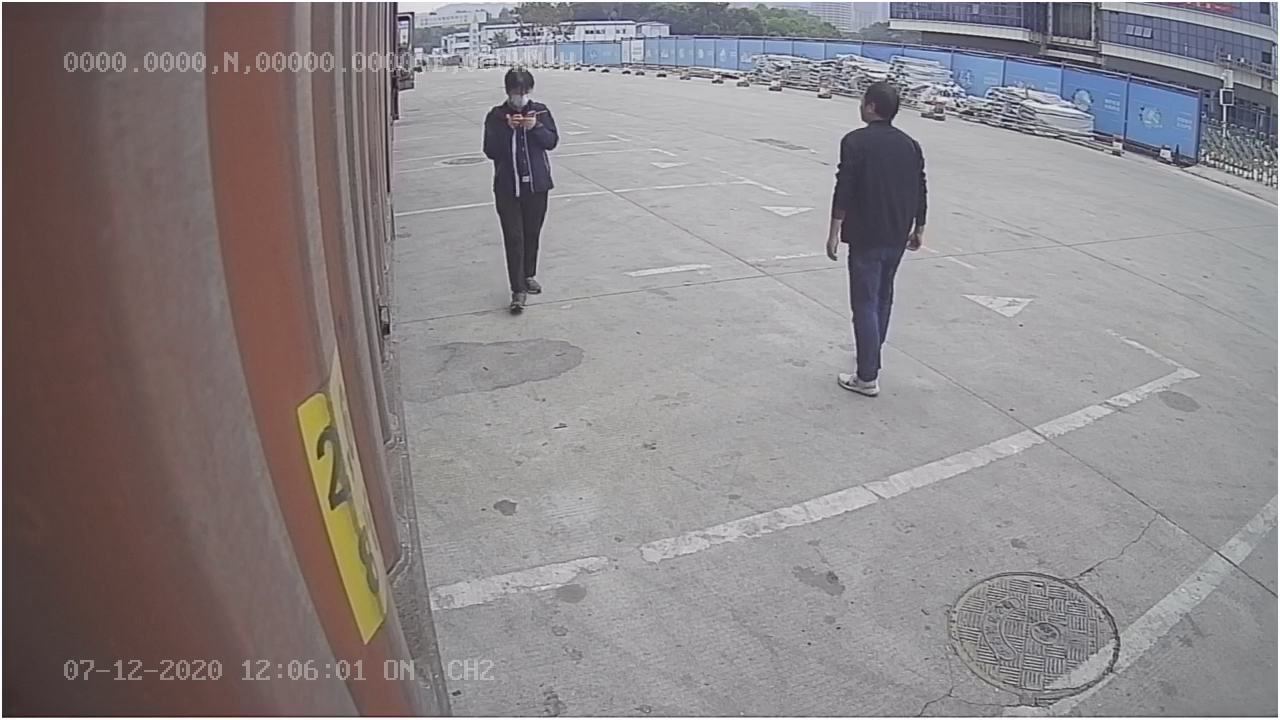person: (823, 81, 929, 401), (481, 66, 571, 314)
